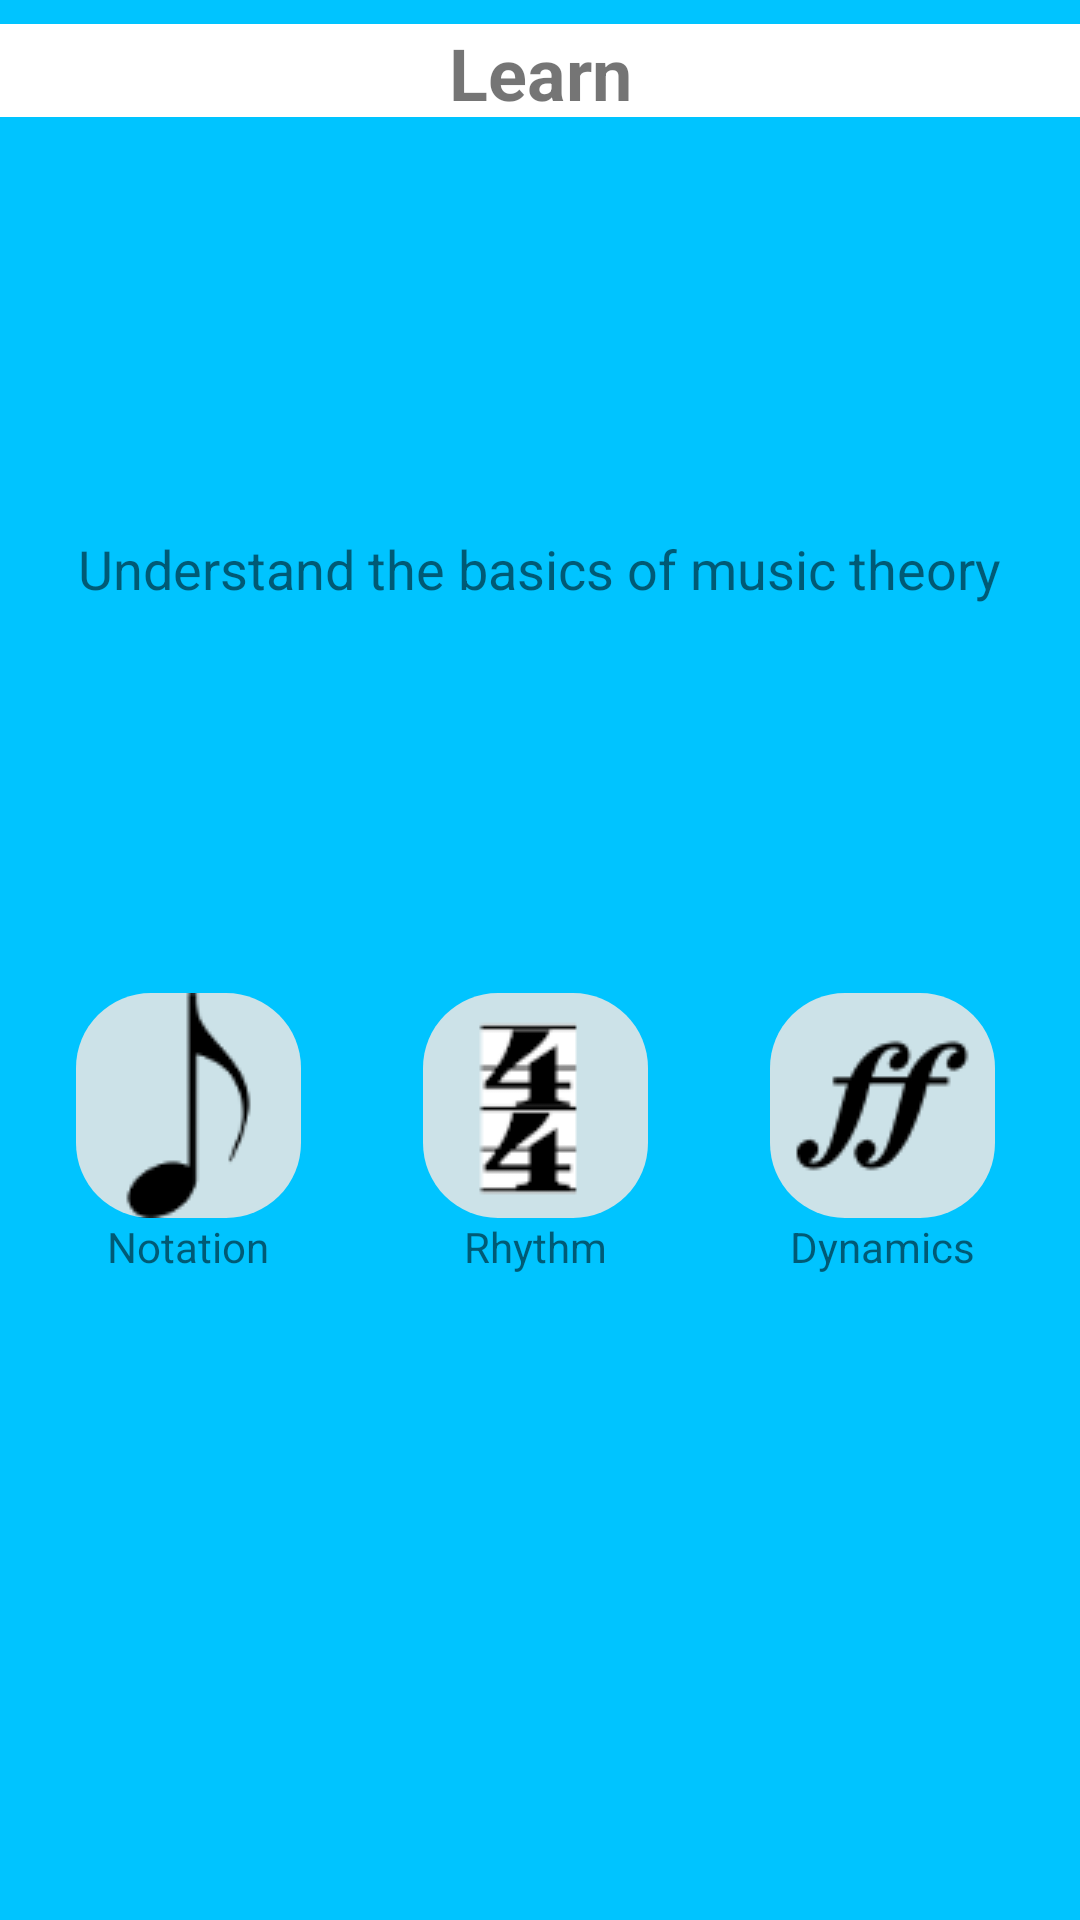

Where icons sit on this 1080px×1920px app screen, as (x1, y1, x2, y2):
fortissimo: (770, 993, 995, 1218)
quaver: (76, 993, 301, 1218)
